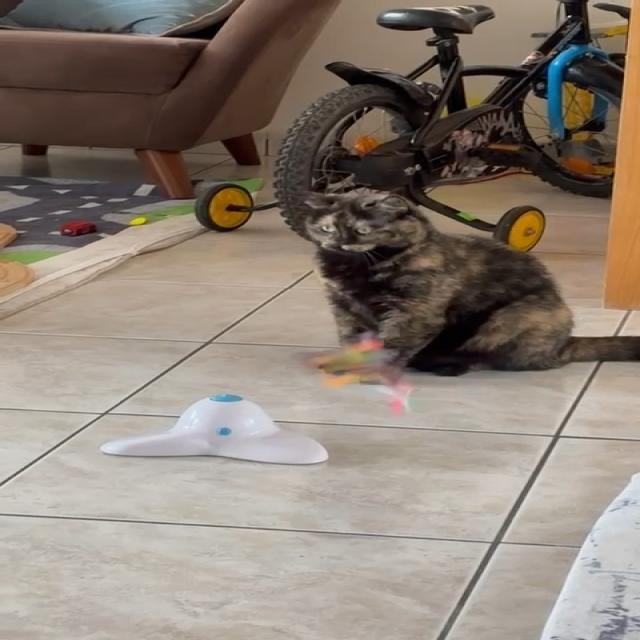authorized: (288, 186, 639, 377)
